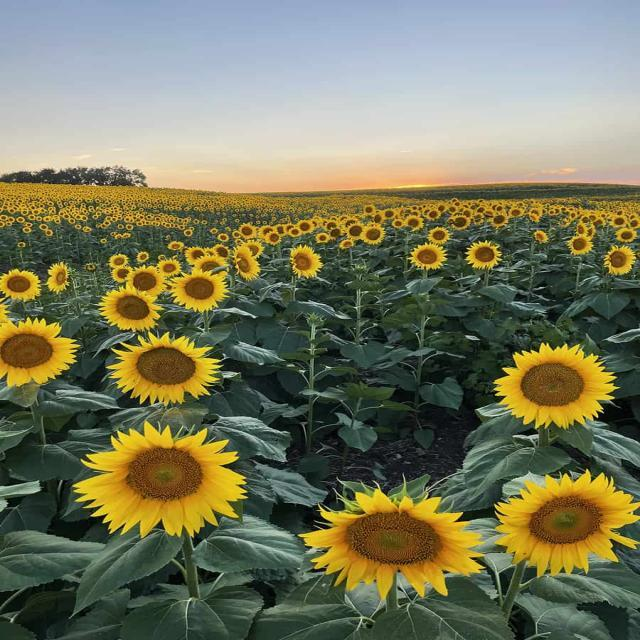sunflower: (297, 488, 486, 600), (71, 420, 249, 538), (492, 468, 640, 578), (492, 342, 620, 429), (105, 330, 223, 406), (0, 316, 80, 386), (97, 286, 163, 332), (170, 267, 230, 312), (0, 268, 41, 301), (125, 264, 167, 296), (289, 244, 323, 278), (464, 240, 502, 270), (602, 244, 636, 275), (408, 243, 448, 269), (190, 253, 228, 272), (46, 262, 70, 292), (234, 257, 262, 281), (566, 232, 593, 255), (360, 223, 385, 244), (237, 239, 264, 258), (110, 264, 134, 283), (185, 246, 208, 265), (426, 226, 450, 244), (157, 258, 180, 276), (614, 226, 636, 242), (451, 214, 472, 230), (232, 244, 252, 260), (108, 252, 127, 268), (404, 214, 422, 230), (346, 223, 362, 240), (238, 223, 256, 238), (212, 244, 230, 259), (0, 298, 10, 324), (264, 230, 281, 244), (490, 214, 507, 228), (258, 224, 275, 238), (342, 218, 360, 231), (532, 229, 548, 243), (608, 216, 628, 226), (298, 220, 314, 232), (374, 212, 387, 226), (472, 212, 486, 225), (584, 224, 596, 239), (426, 209, 442, 220), (508, 208, 525, 218), (576, 222, 588, 236), (324, 221, 339, 232), (135, 251, 149, 262), (330, 228, 344, 239), (340, 239, 354, 249), (316, 233, 330, 243), (288, 227, 302, 237), (168, 241, 183, 250), (384, 208, 397, 218), (528, 212, 540, 222), (628, 218, 640, 228), (203, 248, 217, 256), (592, 218, 606, 226), (218, 232, 229, 242), (392, 219, 404, 228), (364, 205, 376, 214), (422, 208, 432, 218), (284, 224, 296, 232), (484, 209, 496, 217), (494, 204, 506, 212), (309, 220, 319, 229), (448, 205, 458, 214), (580, 216, 592, 223), (274, 224, 284, 232), (462, 209, 472, 217), (437, 204, 446, 212), (490, 203, 499, 211), (277, 229, 287, 236), (410, 210, 420, 217), (340, 215, 350, 222), (476, 206, 486, 213), (628, 213, 638, 220), (616, 210, 626, 217), (458, 206, 467, 213), (587, 214, 597, 220), (232, 231, 240, 238), (46, 229, 54, 236), (28, 213, 36, 220), (184, 230, 193, 236), (39, 224, 48, 230), (0, 214, 9, 220), (329, 216, 337, 222), (570, 212, 578, 218), (540, 208, 548, 214), (450, 198, 458, 204), (178, 224, 186, 230), (126, 224, 134, 230), (16, 217, 24, 223), (18, 242, 25, 248), (25, 222, 32, 228), (234, 238, 242, 243), (410, 205, 418, 210), (452, 201, 460, 206), (210, 229, 218, 234), (122, 234, 132, 238), (554, 208, 560, 214), (549, 210, 555, 216), (0, 222, 6, 228), (36, 216, 42, 222), (118, 224, 124, 230), (8, 217, 15, 222), (21, 210, 28, 215), (68, 218, 75, 223), (23, 228, 31, 232), (32, 210, 40, 214), (600, 213, 606, 218), (561, 207, 567, 212), (44, 217, 50, 222), (6, 222, 12, 226)
